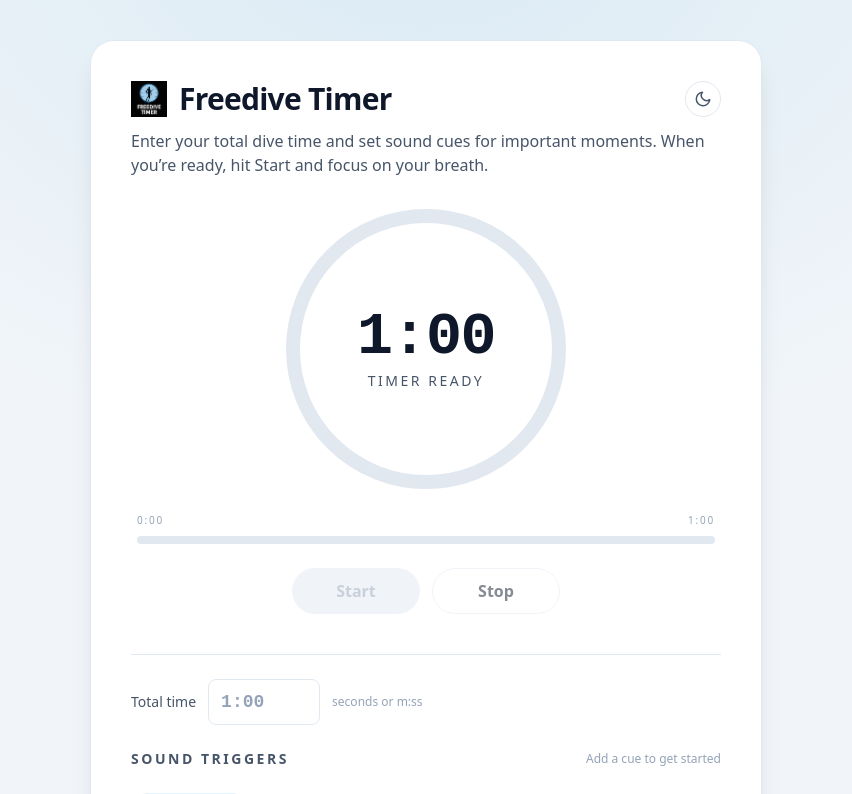
Test case: TimerSoundApp › normalizes plain seconds into m:ss on blur
Step 1. Type "90" into the field labelled "Total time" → (264, 702), box [208,679,320,725]
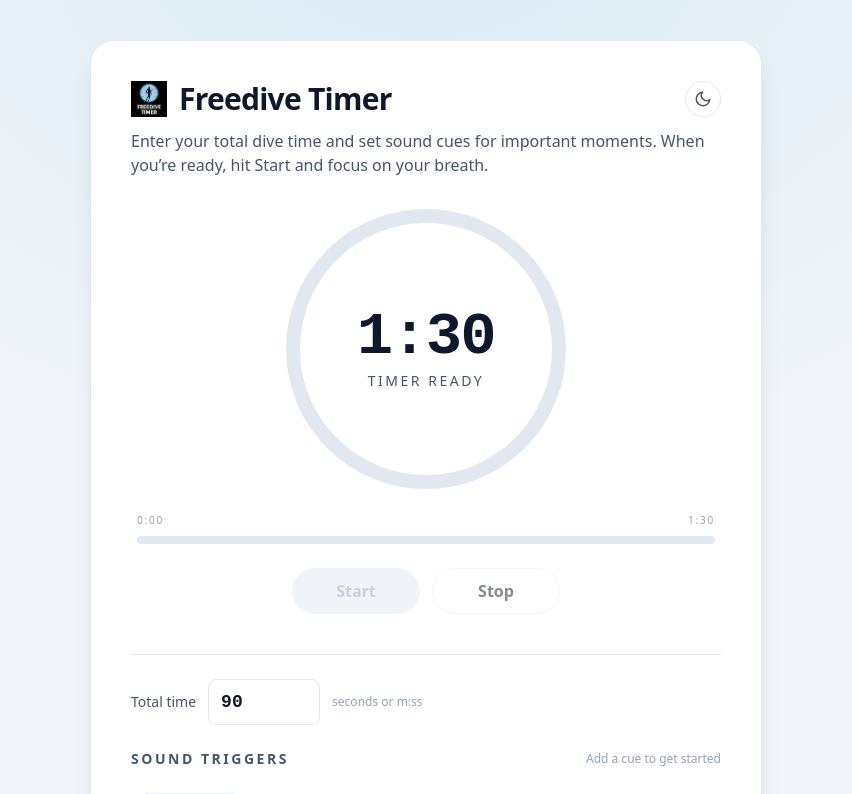
Step 2. Leave the field labelled "Total time", box [208,679,320,725]
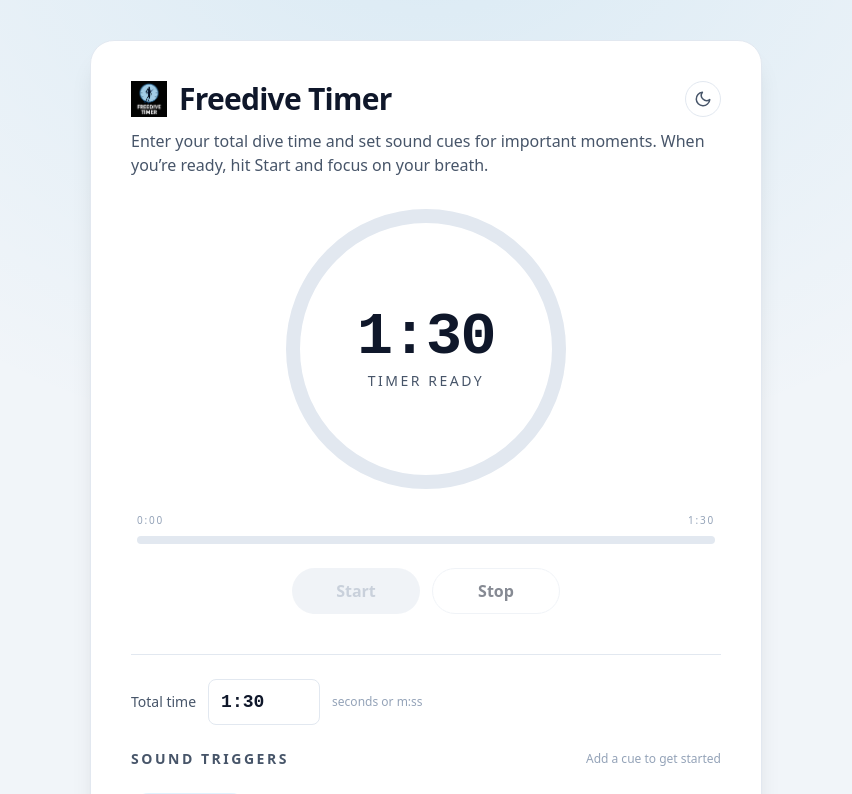
expect the field labelled "Total time" holds "1:30": met, box [208,679,320,725]
